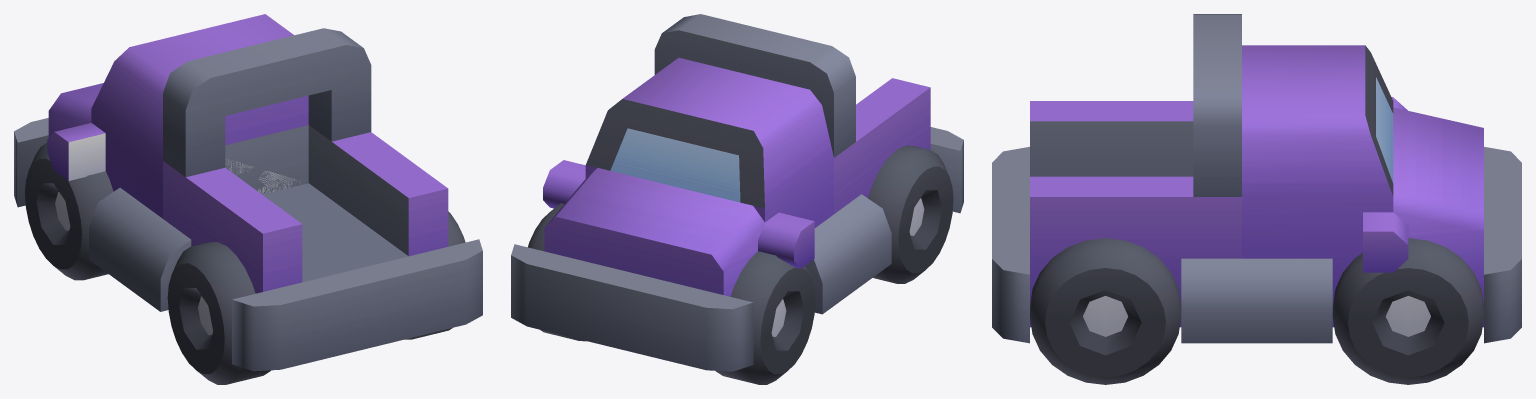
File: vehicle-suv.glb
3 views of the same model, side by side, from view 1: azimuth 30°, elevation 25°; view 2: azimuth 150°, elevation 25°; view 3: azimuth 270°, elevation 25° (orthographic). The views are drawn at different scales.
Parts seen in each view (by area): view 1: vehicle-suv, wheel-bl, wheel-fl, wheel-br; view 2: vehicle-suv, wheel-bl, wheel-fl, wheel-fr; view 3: vehicle-suv, wheel-br, wheel-fr.
Boxes of the visible parts, x1=… form: vehicle-suv: x1=14, y1=14, x2=482, y2=371; wheel-bl: x1=167, y1=242, x2=270, y2=384; wheel-fl: x1=25, y1=143, x2=113, y2=280; wheel-br: x1=405, y1=211, x2=465, y2=339; vehicle-suv: x1=511, y1=14, x2=963, y2=371; wheel-bl: x1=868, y1=145, x2=953, y2=283; wheel-fl: x1=716, y1=251, x2=815, y2=384; wheel-fr: x1=528, y1=203, x2=586, y2=341; vehicle-suv: x1=992, y1=14, x2=1521, y2=343; wheel-br: x1=1030, y1=238, x2=1181, y2=384; wheel-fr: x1=1332, y1=238, x2=1483, y2=384.
Bounding box in the file's own units: 0.525 × 0.505 × 0.875.
Materials: 1 (1 with a texture image).
